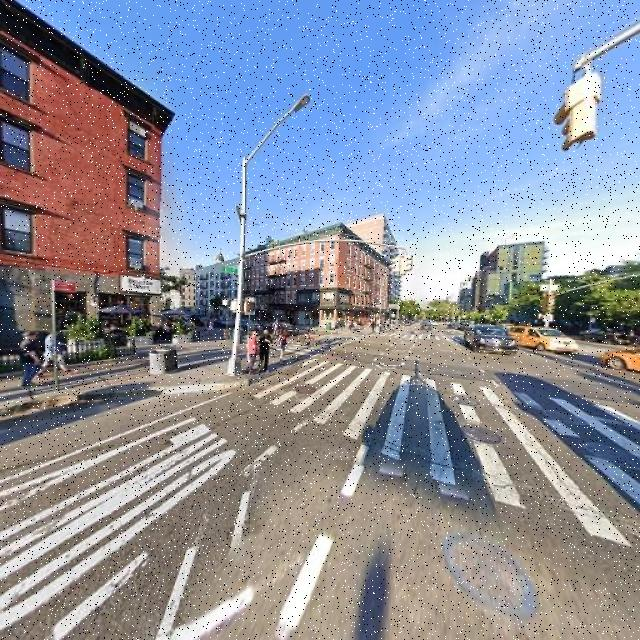Building: (1, 1, 157, 353), (244, 224, 388, 330)
